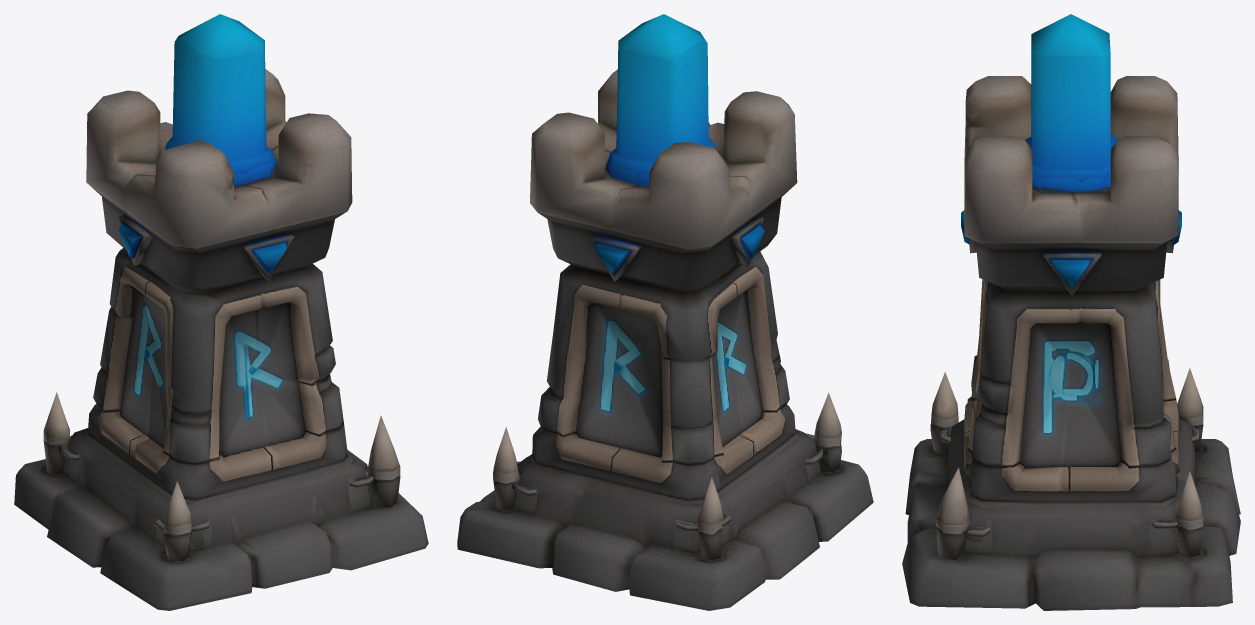
Rendered from tripo_convert_88cb9f32-9633-4a7e-9db2-522e84ab9110.fbx.
3 views of the same model, side by side, from view 1: azimuth 30°, elevation 25°; view 2: azimuth 150°, elevation 25°; view 3: azimuth 270°, elevation 25° (orthographic). The views are drawn at different scales.
Parts seen in each view (by area): view 1: tripo_node_88cb9f32; view 2: tripo_node_88cb9f32; view 3: tripo_node_88cb9f32.
Part boxes in pixels (box(x1,y1,x2,y2)): tripo_node_88cb9f32: box(14, 14, 428, 610); tripo_node_88cb9f32: box(457, 14, 873, 610); tripo_node_88cb9f32: box(902, 14, 1240, 610).
Size of the model in its own units: 0.5918 by 0.998 by 0.584.
